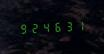four: (40, 20, 50, 34)
nine: (17, 21, 27, 35)
one: (73, 18, 83, 32)
six: (51, 20, 61, 33)
three: (62, 19, 72, 32)
two: (28, 21, 38, 34)
